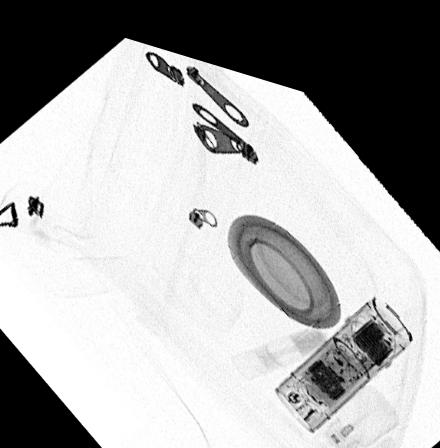Baton: (273, 271, 413, 415)
